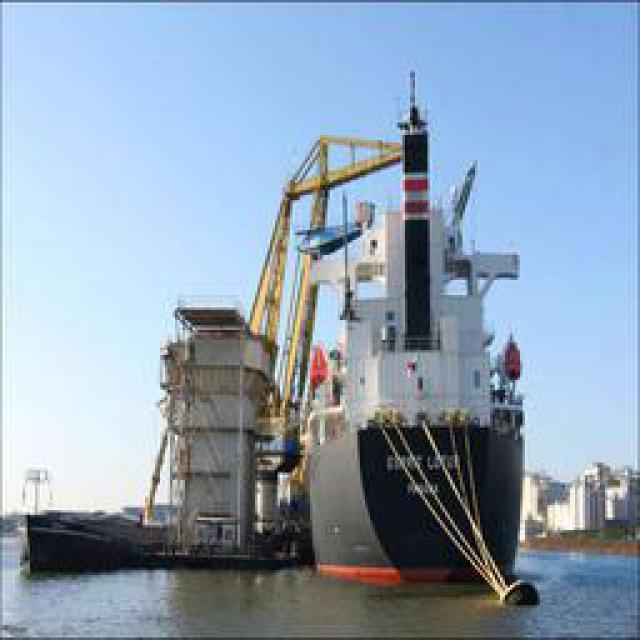Ship: (296, 71, 541, 608)
